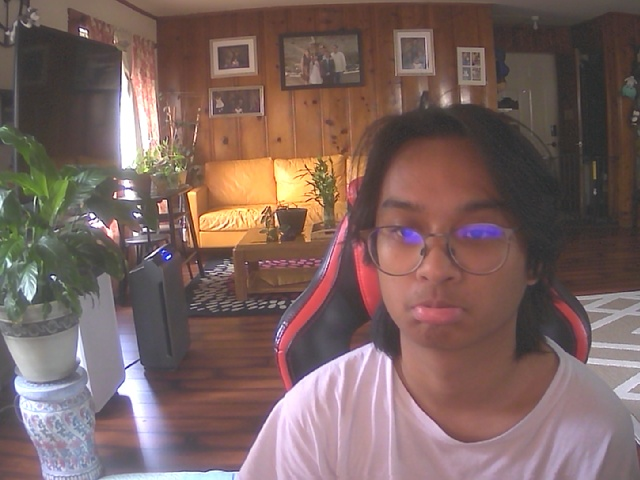sad: (355, 117, 554, 356)
